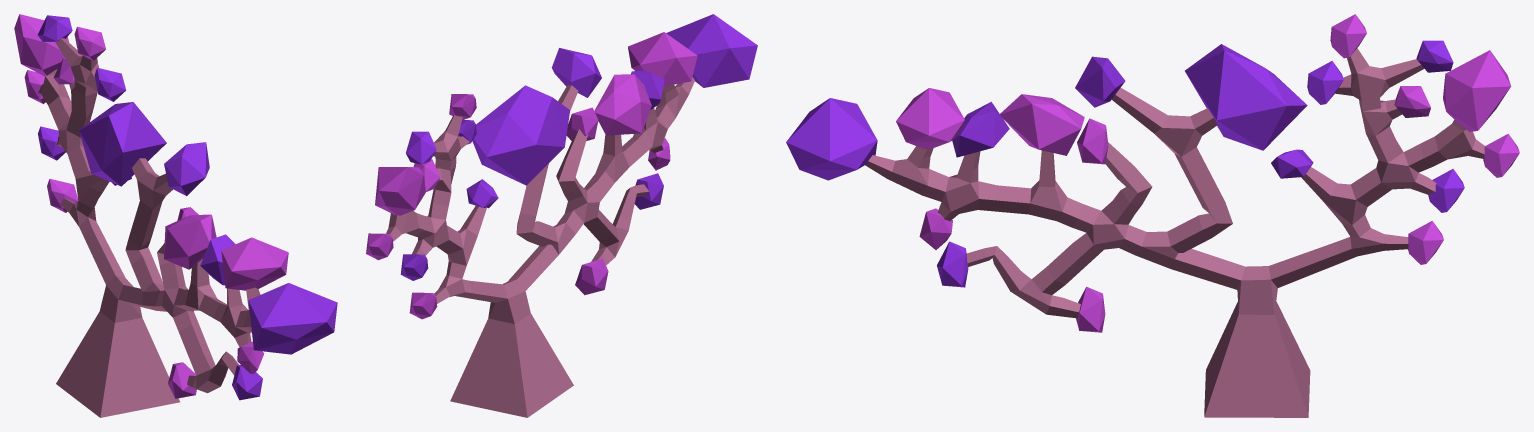
Rendered from treelarge.fbx.
3 views of the same model, side by side, from view 1: azimuth 30°, elevation 25°; view 2: azimuth 150°, elevation 25°; view 3: azimuth 270°, elevation 25° (orthographic). The views are drawn at different scales.
Parts seen in each view (by area): view 1: Cube, Icosphere, Icosphere.009, Icosphere.001, Icosphere.004, Icosphere.010, Icosphere.008, Icosphere.003, Icosphere.006, Icosphere.014, Icosphere.015, Icosphere.007 (+6 smaller); view 2: Cube, Icosphere.009, Icosphere, Icosphere.004, Icosphere.001, Icosphere.010, Icosphere.008, Icosphere.007, Icosphere.016, Icosphere.005, Icosphere.006, Icosphere.018 (+7 smaller); view 3: Cube, Icosphere.009, Icosphere, Icosphere.010, Icosphere.004, Icosphere.001, Icosphere.003, Icosphere.008, Icosphere.005, Icosphere.006, Icosphere.015, Icosphere.014 (+8 smaller).
Boxes of the visible parts, box(x1,y1,x2,y2) form: Cube: box(38, 38, 260, 417); Icosphere: box(248, 283, 337, 354); Icosphere.009: box(79, 102, 166, 186); Icosphere.001: box(221, 237, 288, 290); Icosphere.004: box(164, 214, 216, 269); Icosphere.010: box(14, 14, 69, 76); Icosphere.008: box(164, 142, 209, 196); Icosphere.003: box(200, 234, 235, 285); Icosphere.006: box(232, 365, 262, 400); Icosphere.014: box(94, 67, 126, 101); Icosphere.015: box(74, 26, 105, 60); Icosphere.007: box(168, 362, 196, 398); Cube: box(386, 77, 694, 417); Icosphere.009: box(472, 85, 570, 185); Icosphere: box(666, 14, 757, 87); Icosphere.004: box(594, 74, 651, 135); Icosphere.001: box(628, 32, 697, 86); Icosphere.010: box(375, 167, 425, 215); Icosphere.008: box(551, 48, 601, 97); Icosphere.007: box(575, 258, 608, 295); Icosphere.016: box(406, 131, 436, 164); Icosphere.005: box(566, 107, 598, 140); Icosphere.006: box(634, 173, 663, 209); Icosphere.018: box(466, 179, 498, 208); Cube: box(865, 48, 1484, 417); Icosphere.009: box(1185, 44, 1307, 150); Icosphere: box(786, 98, 877, 180); Icosphere.010: box(1443, 50, 1511, 131); Icosphere.004: box(1000, 94, 1084, 155); Icosphere.001: box(896, 88, 964, 149); Icosphere.003: box(952, 101, 1009, 157); Icosphere.008: box(1075, 56, 1125, 107); Icosphere.005: box(1077, 118, 1108, 164); Icosphere.006: box(937, 241, 968, 287); Icosphere.015: box(1330, 14, 1366, 58); Icosphere.014: box(1307, 61, 1343, 104).
Bounding box in the file's own units: 164 × 556 × 965.
